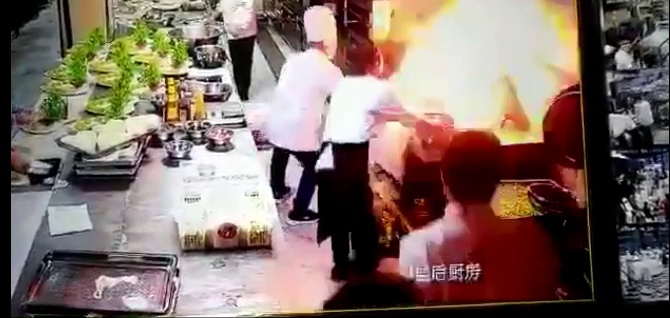fire: (397, 5, 566, 117)
